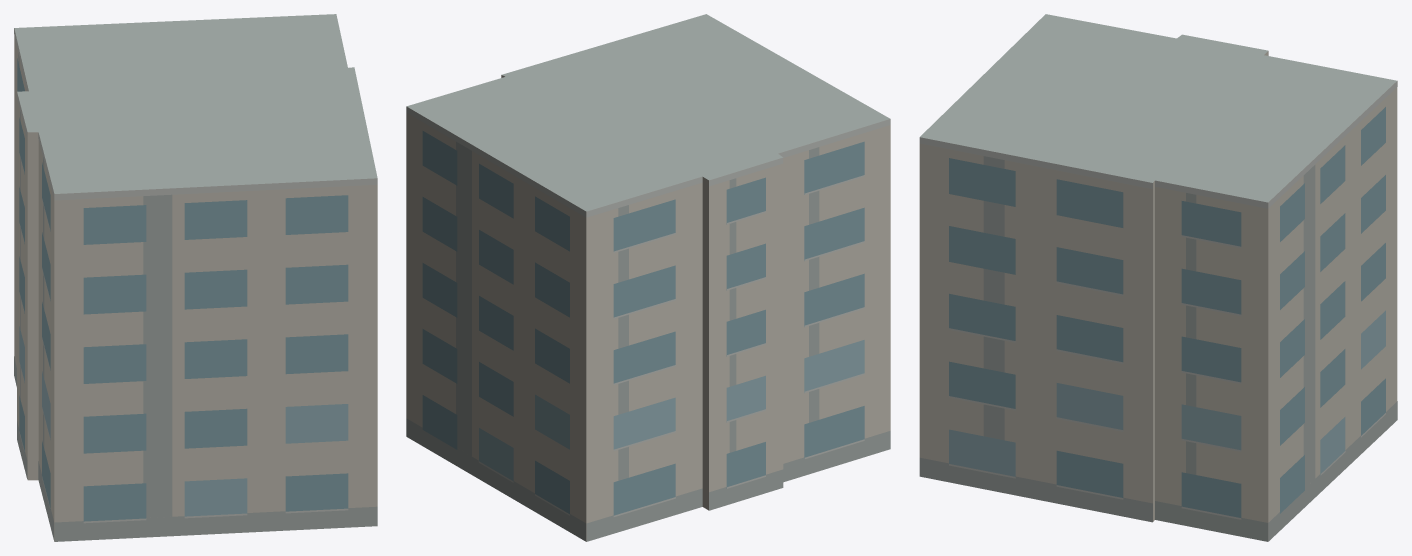
The model's file is survey-upis-32925242.glb.
3 views of the same model, side by side, from view 1: azimuth 30°, elevation 25°; view 2: azimuth 150°, elevation 25°; view 3: azimuth 270°, elevation 25° (orthographic). The views are drawn at different scales.
Parts seen in each view (by area): view 1: survey-upis-32925242.tmp; view 2: survey-upis-32925242.tmp; view 3: survey-upis-32925242.tmp.
Part boxes in pixels (bbox=[...]): survey-upis-32925242.tmp: bbox=[14, 14, 377, 541]; survey-upis-32925242.tmp: bbox=[406, 14, 890, 541]; survey-upis-32925242.tmp: bbox=[919, 14, 1397, 541].
Bounding box in the file's own units: 15.74 × 13.2 × 16.85.
